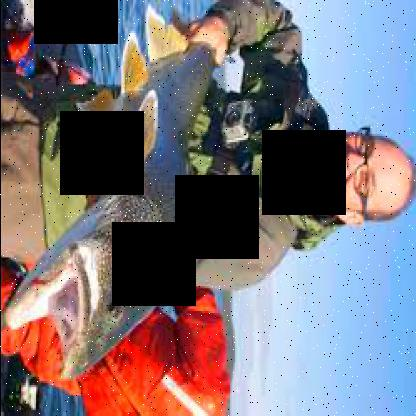fish: (4, 10, 230, 376)
